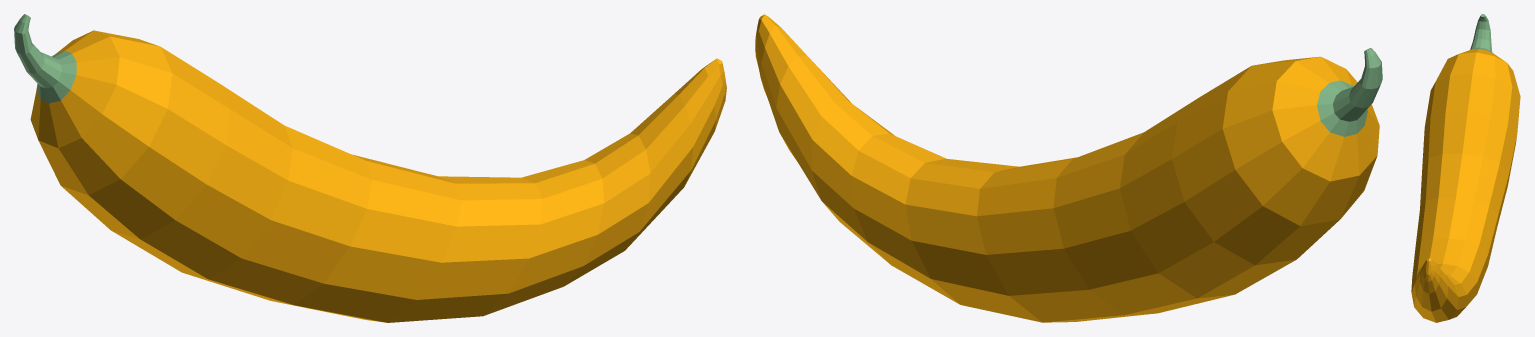
The model's file is chili3.glb.
3 views of the same model, side by side, from view 1: azimuth 30°, elevation 25°; view 2: azimuth 150°, elevation 25°; view 3: azimuth 270°, elevation 25° (orthographic). The views are drawn at different scales.
Visible parts, largest first — view 1: chili3; view 2: chili3; view 3: chili3.
Part boxes in pixels (<box>): chili3: <box>14,14,726,322</box>; chili3: <box>755,14,1382,322</box>; chili3: <box>1411,14,1520,322</box>.
Bounding box in the file's own units: 0.8929 × 0.4837 × 0.2492.
Materials: 1 (1 with a texture image).
